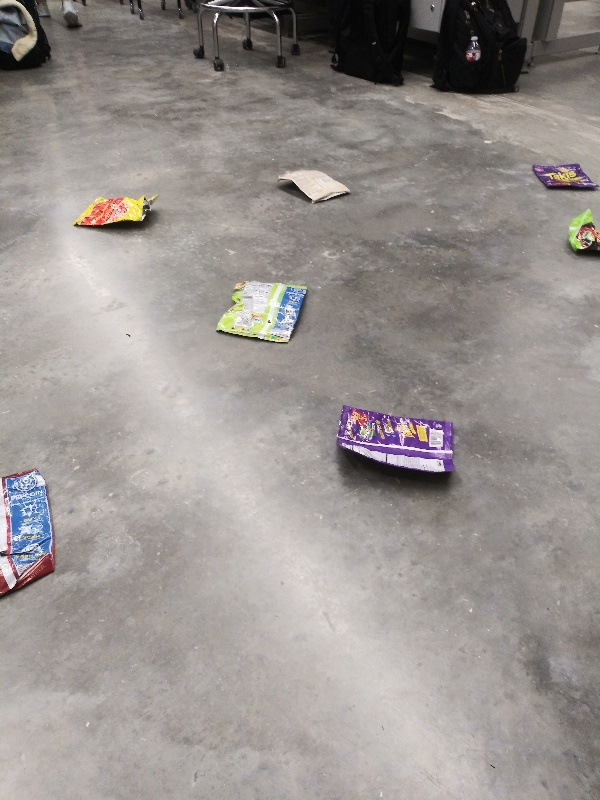bag: (334, 400, 464, 487), (207, 275, 315, 347), (1, 462, 53, 605), (70, 192, 160, 232), (271, 163, 356, 205), (525, 159, 600, 194), (562, 204, 600, 260)
